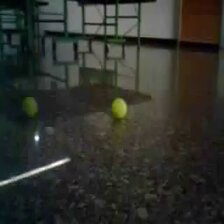tennis: (21, 96, 41, 118), (111, 97, 128, 119)
